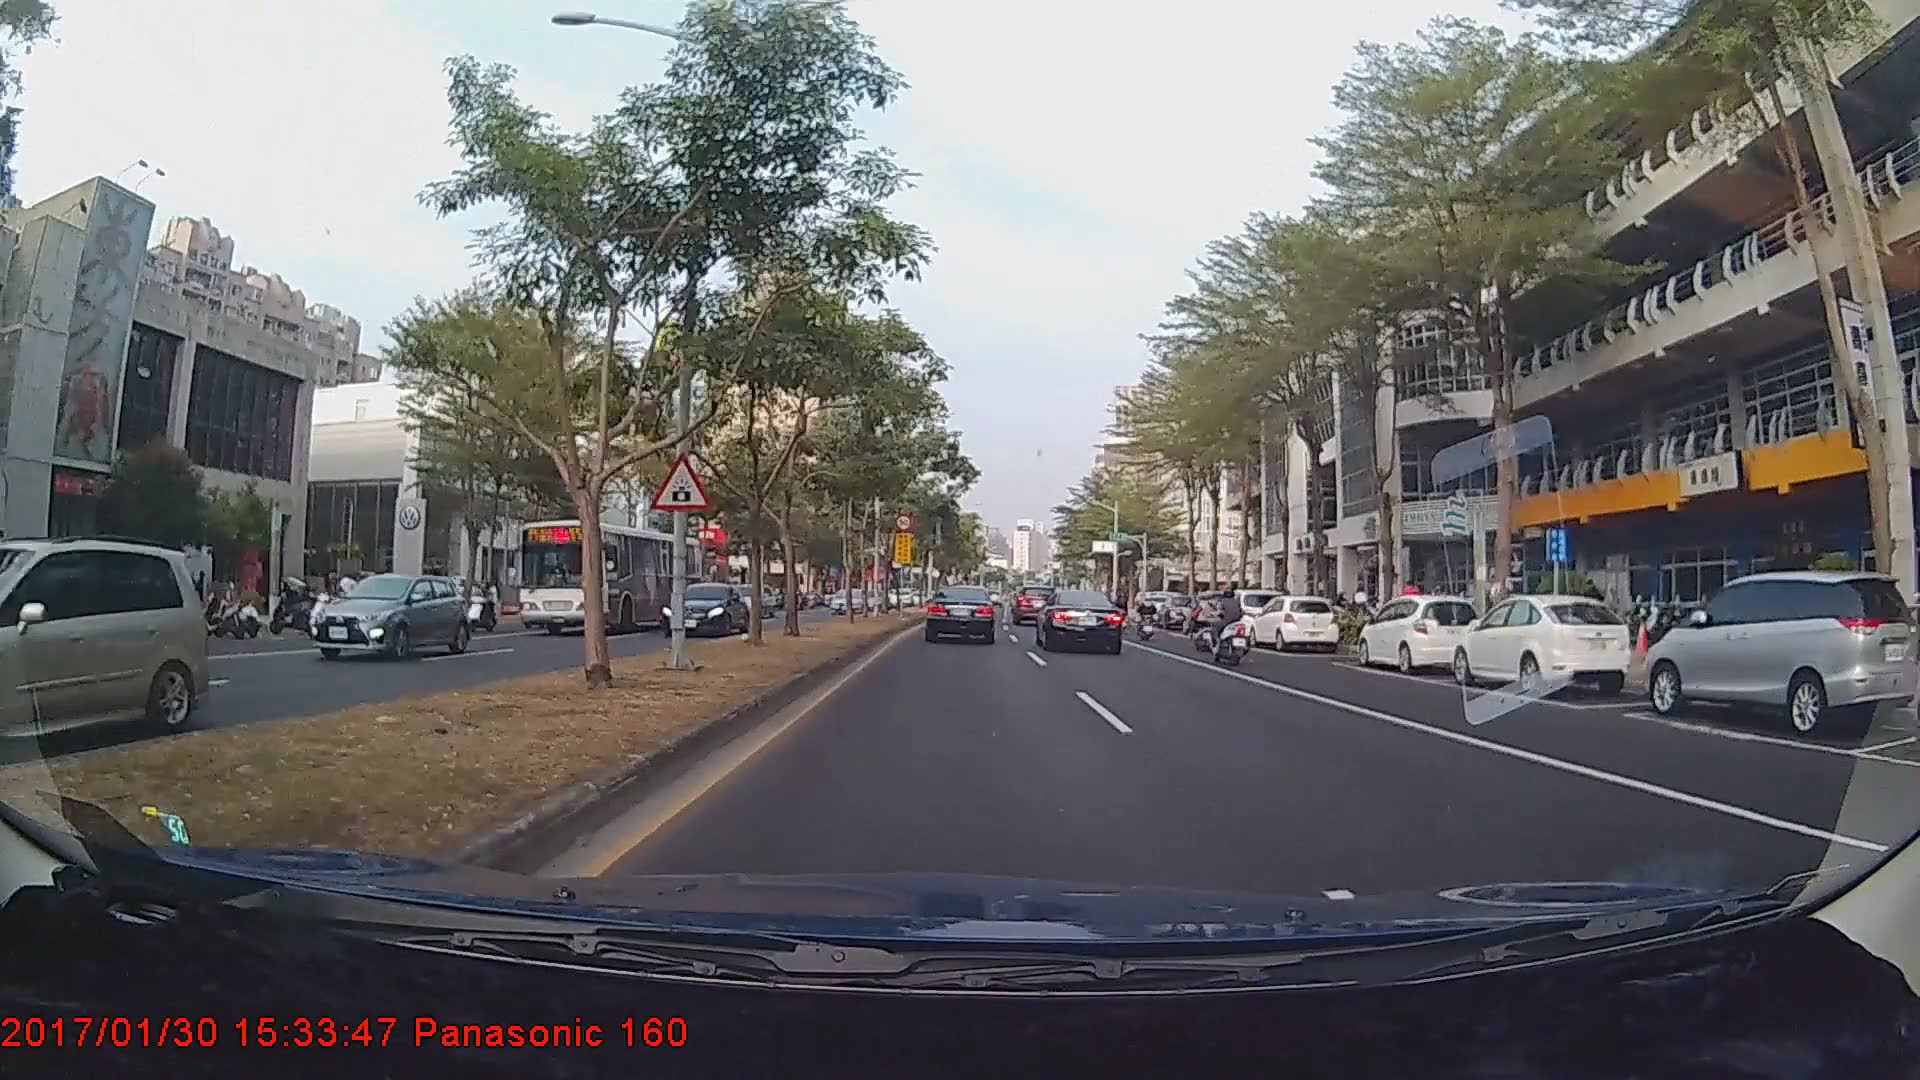rider: (1203, 582, 1256, 667), (1191, 589, 1233, 651), (462, 578, 503, 633), (1136, 586, 1161, 642)
vehicle: (1638, 570, 1919, 735), (0, 537, 212, 751), (516, 518, 706, 636), (1449, 592, 1632, 696), (307, 571, 471, 659), (1357, 593, 1481, 672), (1036, 589, 1125, 654), (1247, 593, 1340, 651), (660, 577, 748, 634), (924, 582, 999, 644), (1200, 583, 1285, 637), (724, 581, 775, 618), (1010, 584, 1055, 622), (825, 582, 866, 610)
